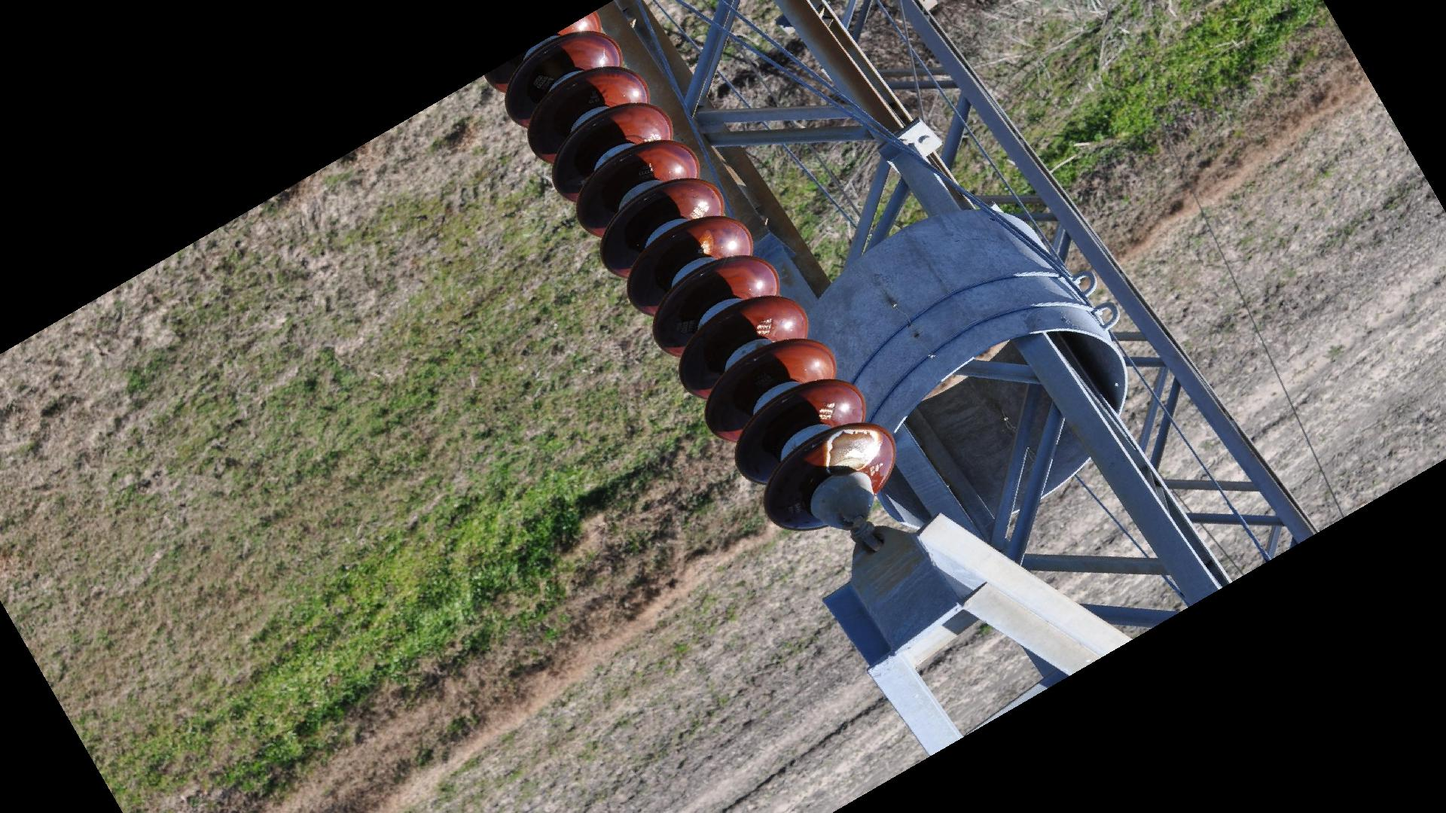insulator: (480, 1, 901, 537)
insulator_flashover: (825, 424, 883, 477), (691, 227, 718, 258)
